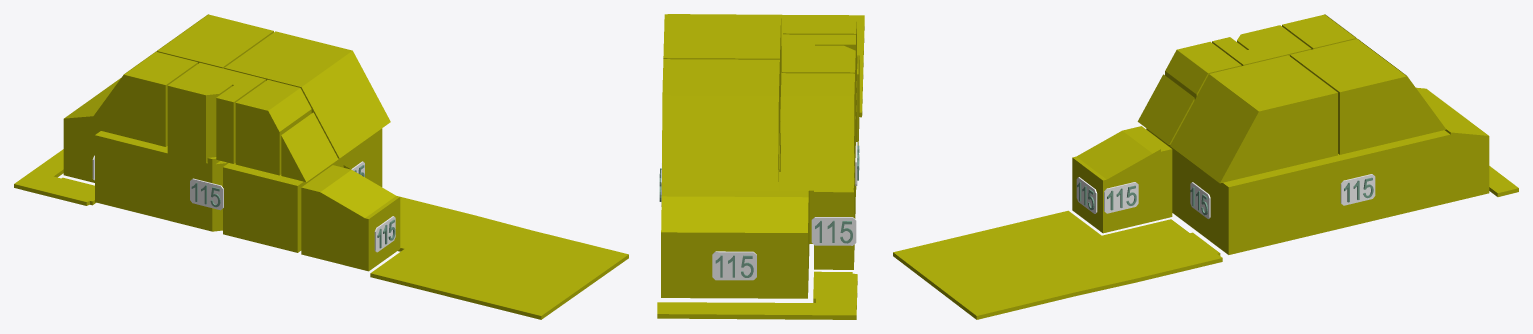
3 renders of one model, left to right at view 1: azimuth 30°, elevation 25°; view 2: azimuth 150°, elevation 25°; view 3: azimuth 270°, elevation 25°, orthographic. The views are drawn at different scales.
Parts seen in each view (by area): view 1: g_14, g_7, g_5, g_0, g_9, g_4, g_6, g_11, g_8, g_2, g_10, g_12 (+4 smaller); view 2: g_8, g_1, g_9, g_7, g_13, g_4, g_15, g_10, g_6, g_39, g_43, g_11 (+4 smaller); view 3: g_14, g_7, g_1, g_0, g_8, g_5, g_6, g_12, g_10, g_9, g_11, g_31 (+2 smaller).
Part boxes in pixels (bbox=[...]): g_14: bbox=[370, 197, 628, 319]; g_7: bbox=[224, 31, 390, 158]; g_5: bbox=[301, 165, 400, 271]; g_0: bbox=[223, 128, 382, 252]; g_9: bbox=[86, 51, 197, 146]; g_4: bbox=[95, 131, 167, 219]; g_6: bbox=[235, 80, 311, 175]; g_11: bbox=[167, 76, 232, 157]; g_8: bbox=[156, 14, 273, 68]; g_2: bbox=[165, 148, 228, 231]; g_10: bbox=[181, 63, 265, 163]; g_12: bbox=[281, 112, 338, 182]; g_8: bbox=[661, 59, 779, 190]; g_1: bbox=[661, 119, 809, 298]; g_9: bbox=[780, 73, 854, 190]; g_7: bbox=[663, 14, 781, 120]; g_13: bbox=[657, 302, 815, 319]; g_4: bbox=[809, 154, 854, 269]; g_15: bbox=[813, 271, 857, 319]; g_10: bbox=[782, 34, 855, 115]; g_6: bbox=[783, 15, 856, 104]; g_39: bbox=[712, 251, 756, 280]; g_43: bbox=[811, 217, 856, 245]; g_11: bbox=[814, 45, 855, 141]; g_14: bbox=[893, 210, 1222, 319]; g_7: bbox=[1170, 55, 1337, 183]; g_1: bbox=[1301, 87, 1489, 236]; g_0: bbox=[1146, 128, 1306, 254]; g_8: bbox=[1290, 38, 1446, 154]; g_5: bbox=[1072, 126, 1172, 233]; g_6: bbox=[1165, 41, 1241, 99]; g_12: bbox=[1137, 74, 1194, 144]; g_10: bbox=[1212, 34, 1311, 65]; g_9: bbox=[1282, 14, 1356, 49]; g_11: bbox=[1237, 25, 1292, 49]; g_31: bbox=[1340, 174, 1375, 205].
Bounding box in the file's own units: 15.64 × 5.36 × 21.51.
